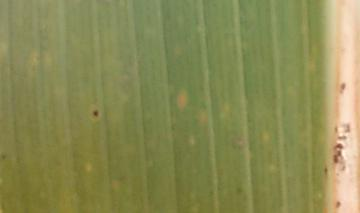tarspot: (320, 162, 331, 179), (89, 107, 102, 121), (331, 197, 345, 210), (1, 148, 9, 164)
